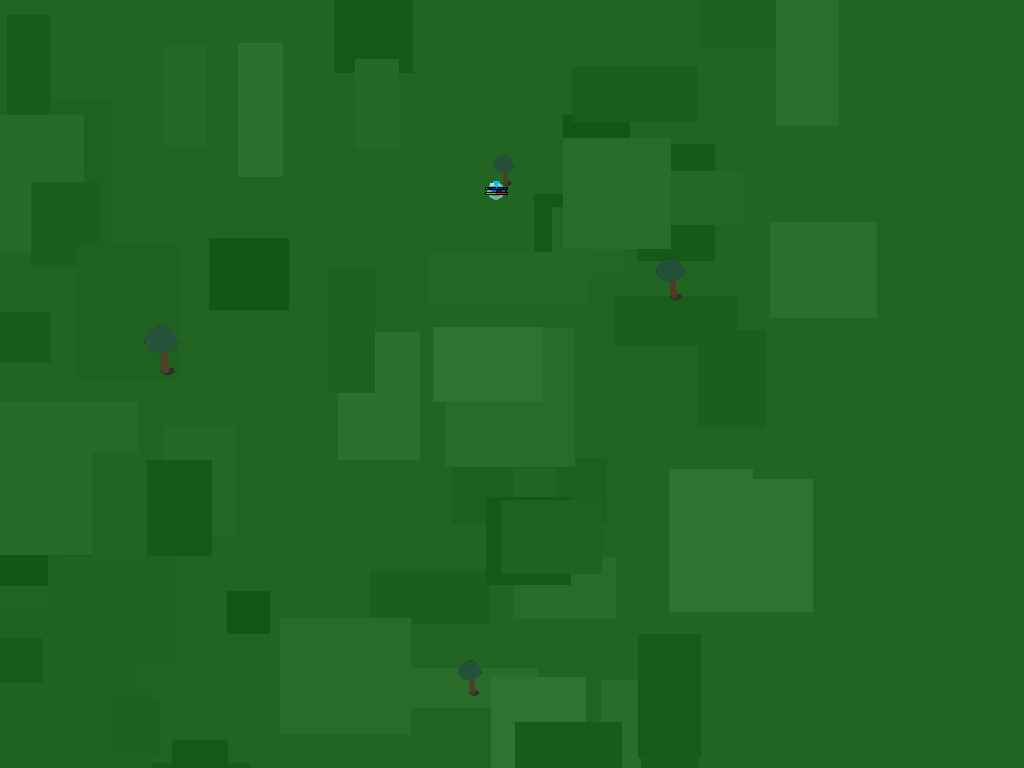Shotgunner: (481, 175, 512, 206)
